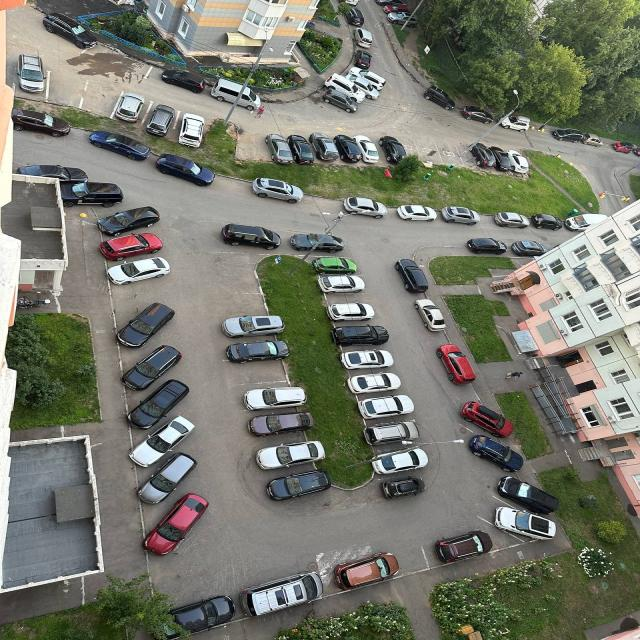car: (142, 493, 210, 557), (239, 571, 323, 619), (126, 414, 198, 468), (154, 595, 236, 640), (124, 379, 191, 431), (139, 453, 198, 506), (114, 300, 173, 349), (122, 344, 182, 392), (330, 553, 399, 592), (495, 475, 560, 515), (431, 528, 496, 564), (492, 506, 557, 541), (255, 440, 326, 472), (468, 433, 524, 473), (265, 468, 332, 501), (96, 205, 161, 237), (156, 153, 218, 186), (459, 401, 514, 438), (42, 12, 98, 48), (97, 233, 164, 263), (58, 181, 125, 210), (87, 131, 151, 161), (105, 256, 172, 284), (434, 343, 478, 385), (246, 412, 315, 438), (11, 108, 71, 137), (219, 223, 283, 250), (369, 447, 429, 475), (209, 79, 261, 110), (243, 387, 308, 411), (225, 340, 290, 364), (251, 176, 306, 204), (359, 394, 416, 421), (362, 421, 421, 447), (220, 315, 285, 338), (392, 257, 431, 295), (16, 164, 89, 183), (322, 73, 367, 103), (331, 325, 390, 347), (347, 371, 403, 394), (288, 232, 346, 254), (16, 53, 45, 94), (340, 195, 388, 219), (160, 69, 207, 93), (112, 91, 146, 123), (340, 349, 394, 369), (145, 104, 176, 138), (178, 112, 207, 148), (326, 303, 378, 323), (382, 476, 425, 500), (413, 299, 446, 330), (345, 73, 381, 101), (308, 131, 340, 162), (348, 67, 387, 91), (318, 275, 367, 294), (333, 134, 364, 164), (265, 133, 294, 164), (286, 135, 315, 165), (377, 136, 408, 164), (564, 213, 609, 232), (467, 141, 497, 169), (322, 89, 360, 111), (423, 85, 457, 109), (464, 237, 507, 255), (394, 204, 437, 222), (441, 205, 481, 224), (352, 135, 379, 163), (503, 148, 531, 173), (488, 145, 513, 172), (530, 212, 565, 231), (492, 211, 531, 228), (459, 106, 494, 124), (510, 241, 547, 257), (498, 116, 532, 132), (386, 11, 418, 28), (551, 129, 584, 144), (352, 27, 374, 49), (354, 48, 373, 69), (345, 6, 364, 27), (579, 132, 602, 147), (613, 142, 634, 154), (382, 4, 410, 13), (374, 0, 408, 6), (343, 0, 360, 6)
